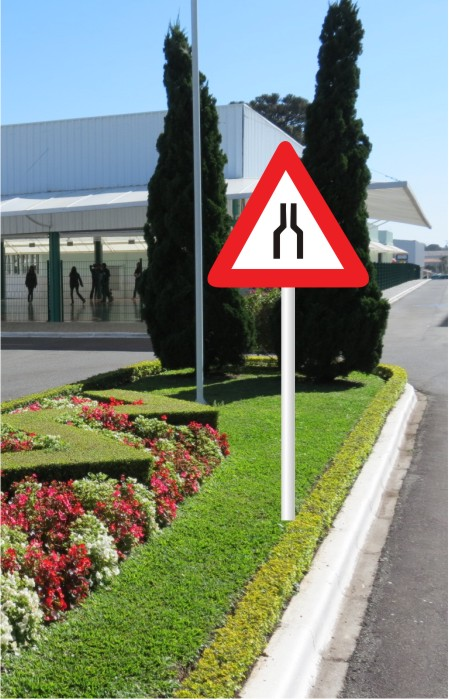narrow-road: (261, 199, 312, 268)
